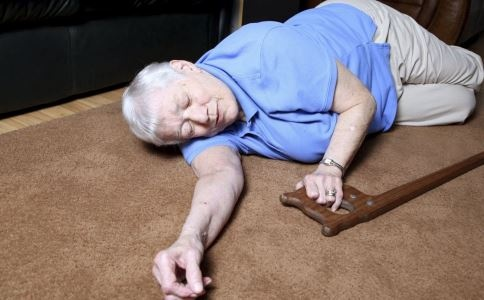falling: (127, 2, 465, 292)
